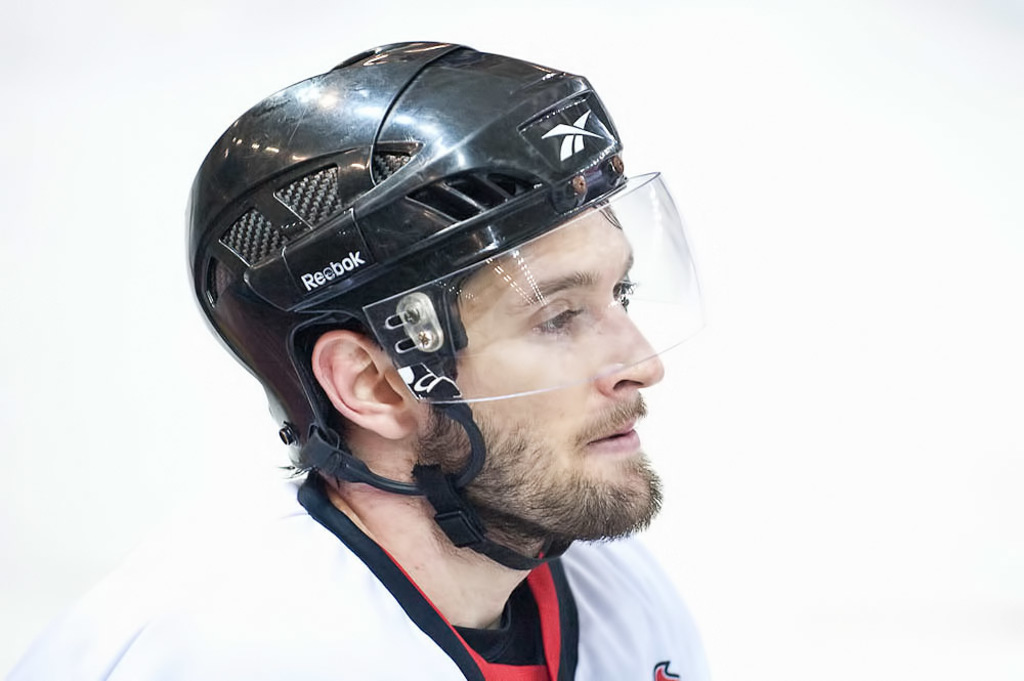Person: (0, 40, 706, 681)
